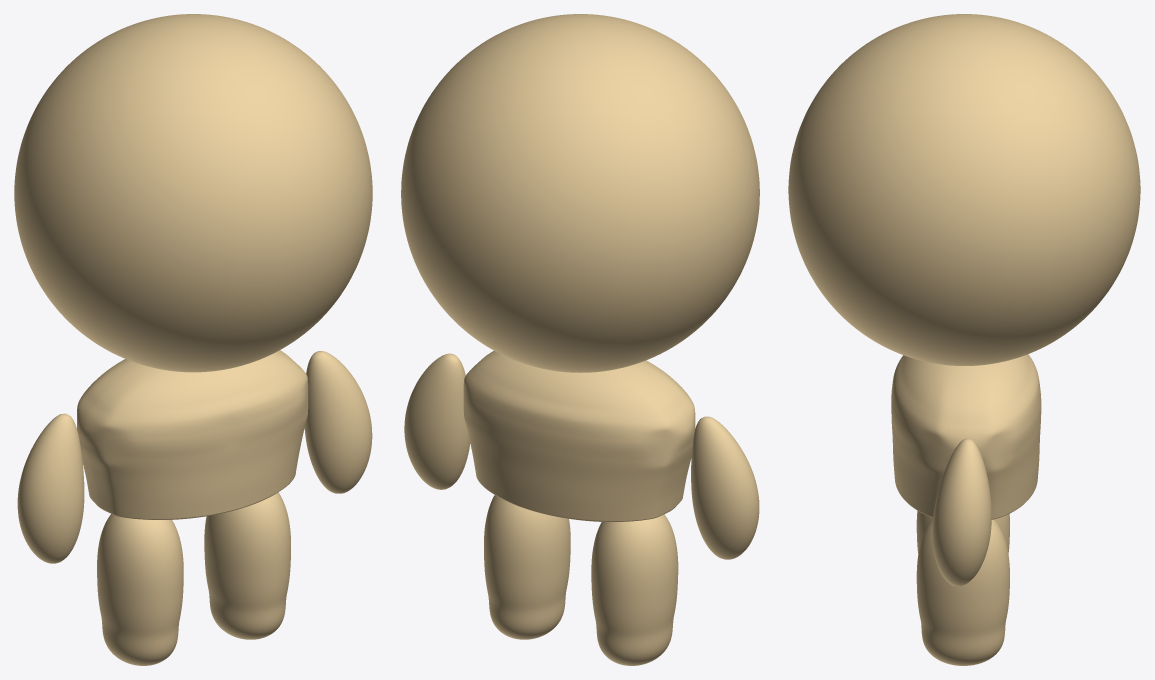
File: Masculine-Masculine-pants-clothed-base263-cea1c7fa.glb
The picture shows the model from 3 angles, left to right: view 1: azimuth 30°, elevation 25°; view 2: azimuth 150°, elevation 25°; view 3: azimuth 270°, elevation 25°; orthographic projection.
Visible parts, largest first — view 1: Skin / soft oval head, Skin / rounded torso, Skin / pants fitted leg -1, Skin / pants fitted leg 1, Skin / swept arm -1, Skin / swept arm 1; view 2: Skin / soft oval head, Skin / rounded torso, Skin / pants fitted leg -1, Skin / pants fitted leg 1, Skin / swept arm -1, Skin / swept arm 1; view 3: Skin / soft oval head, Skin / rounded torso, Skin / pants fitted leg 1, Skin / swept arm 1, Skin / pants fitted leg -1.
Part boxes in pixels (x1=…): Skin / soft oval head: x1=14, y1=14, x2=372, y2=372; Skin / rounded torso: x1=77, y1=350, x2=308, y2=519; Skin / pants fitted leg -1: x1=97, y1=514, x2=183, y2=665; Skin / pants fitted leg 1: x1=204, y1=492, x2=290, y2=639; Skin / swept arm -1: x1=17, y1=413, x2=84, y2=563; Skin / swept arm 1: x1=304, y1=351, x2=372, y2=493; Skin / soft oval head: x1=401, y1=14, x2=759, y2=372; Skin / rounded torso: x1=463, y1=351, x2=695, y2=521; Skin / pants fitted leg -1: x1=591, y1=514, x2=678, y2=665; Skin / pants fitted leg 1: x1=484, y1=495, x2=570, y2=639; Skin / swept arm -1: x1=691, y1=416, x2=759, y2=559; Skin / swept arm 1: x1=404, y1=353, x2=470, y2=489; Skin / soft oval head: x1=788, y1=14, x2=1140, y2=365; Skin / rounded torso: x1=891, y1=354, x2=1041, y2=519; Skin / pants fitted leg 1: x1=916, y1=519, x2=1009, y2=665; Skin / swept arm 1: x1=932, y1=438, x2=991, y2=586; Skin / pants fitted leg -1: x1=916, y1=510, x2=1009, y2=553.
Bounding box in the file's own units: 1.07 × 1.82 × 0.96.
